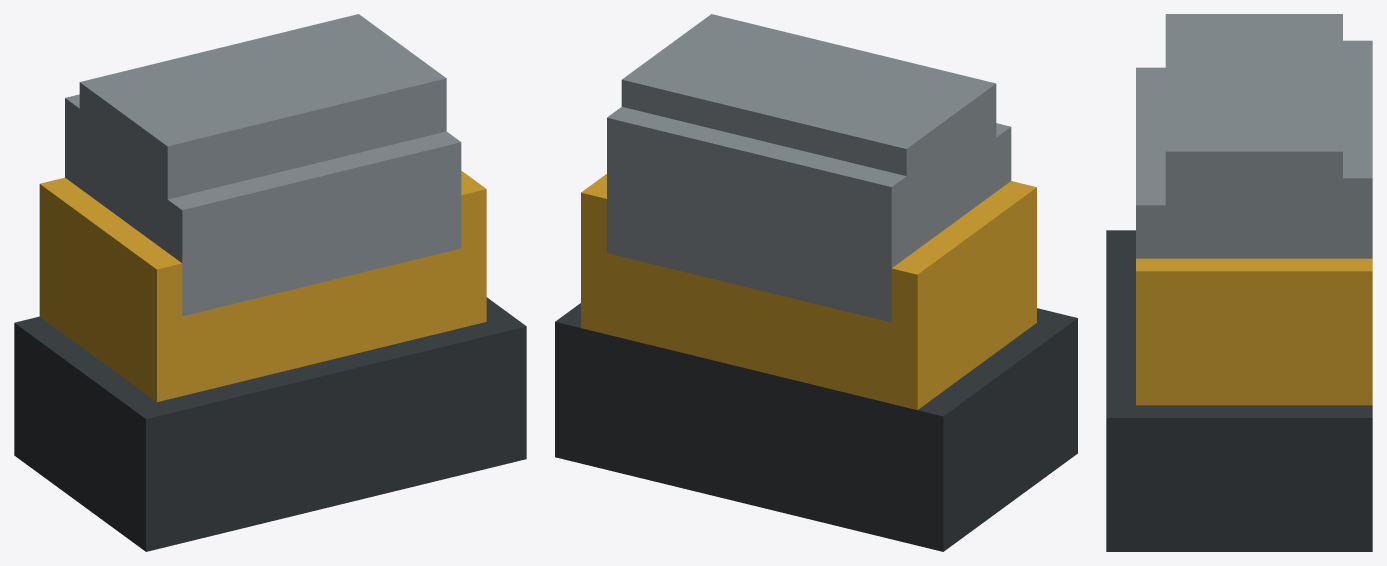
File: cement_mixer_roller_stand.glb
The picture shows the model from 3 angles, left to right: view 1: azimuth 30°, elevation 25°; view 2: azimuth 150°, elevation 25°; view 3: azimuth 270°, elevation 25°; orthographic projection. The views are drawn at different scales.
Parts seen in each view (by area): view 1: body:compound; view 2: body:compound; view 3: body:compound.
Boxes of the visible parts, x1,y1,x2,y2 form: body:compound: [14, 14, 526, 551]; body:compound: [555, 14, 1077, 551]; body:compound: [1106, 14, 1372, 551].
Size of the model in its own units: 0.4688 by 0.4375 by 0.2812.
